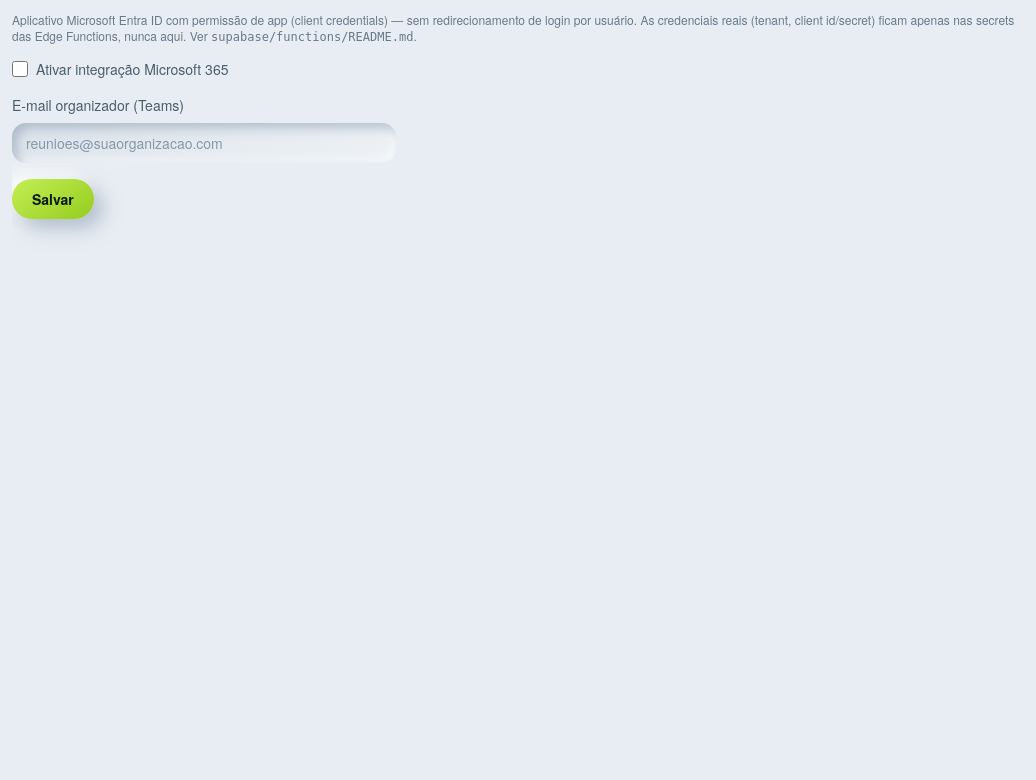
Test: MicrosoftIntegrationPanel › shows a toast when saving fails
expect the checkbox labelled "Ativar integração Microsoft 365" is shown: met, box [12,61,28,77]
What coordinates should you click on to do the following:
click the button "Salvar"
I would click on:
 (53, 199)
Its box is [12,179,94,219].
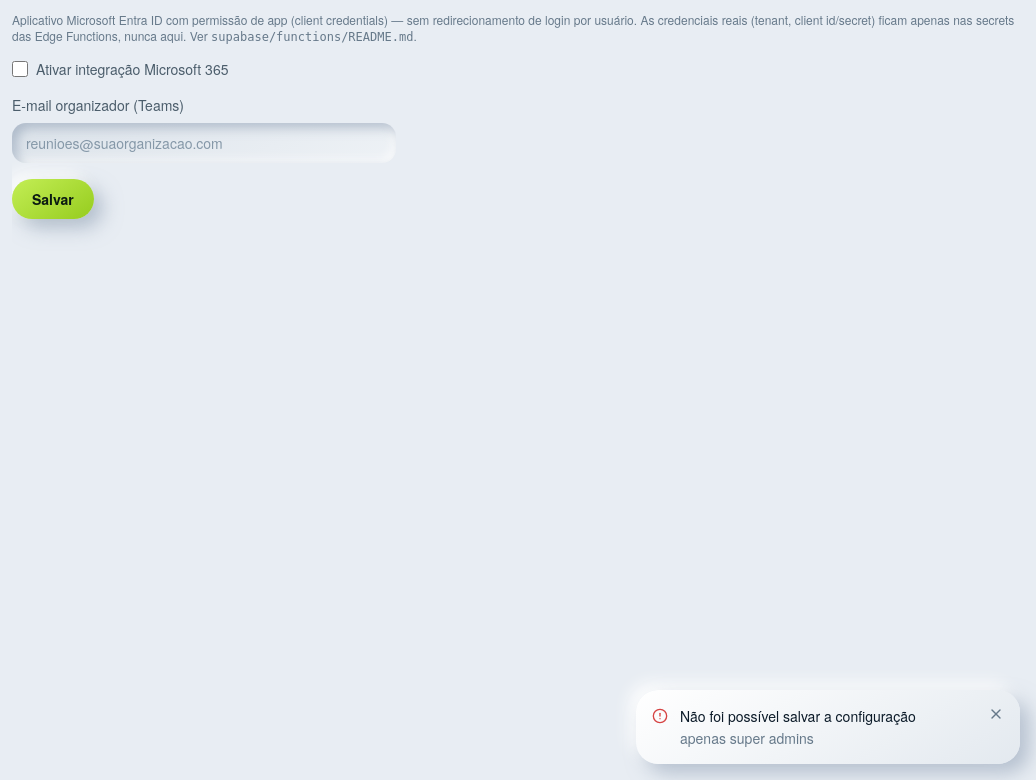
expect the text "Não foi possível salvar a configuração" is shown: met, box [680,706,916,726]
